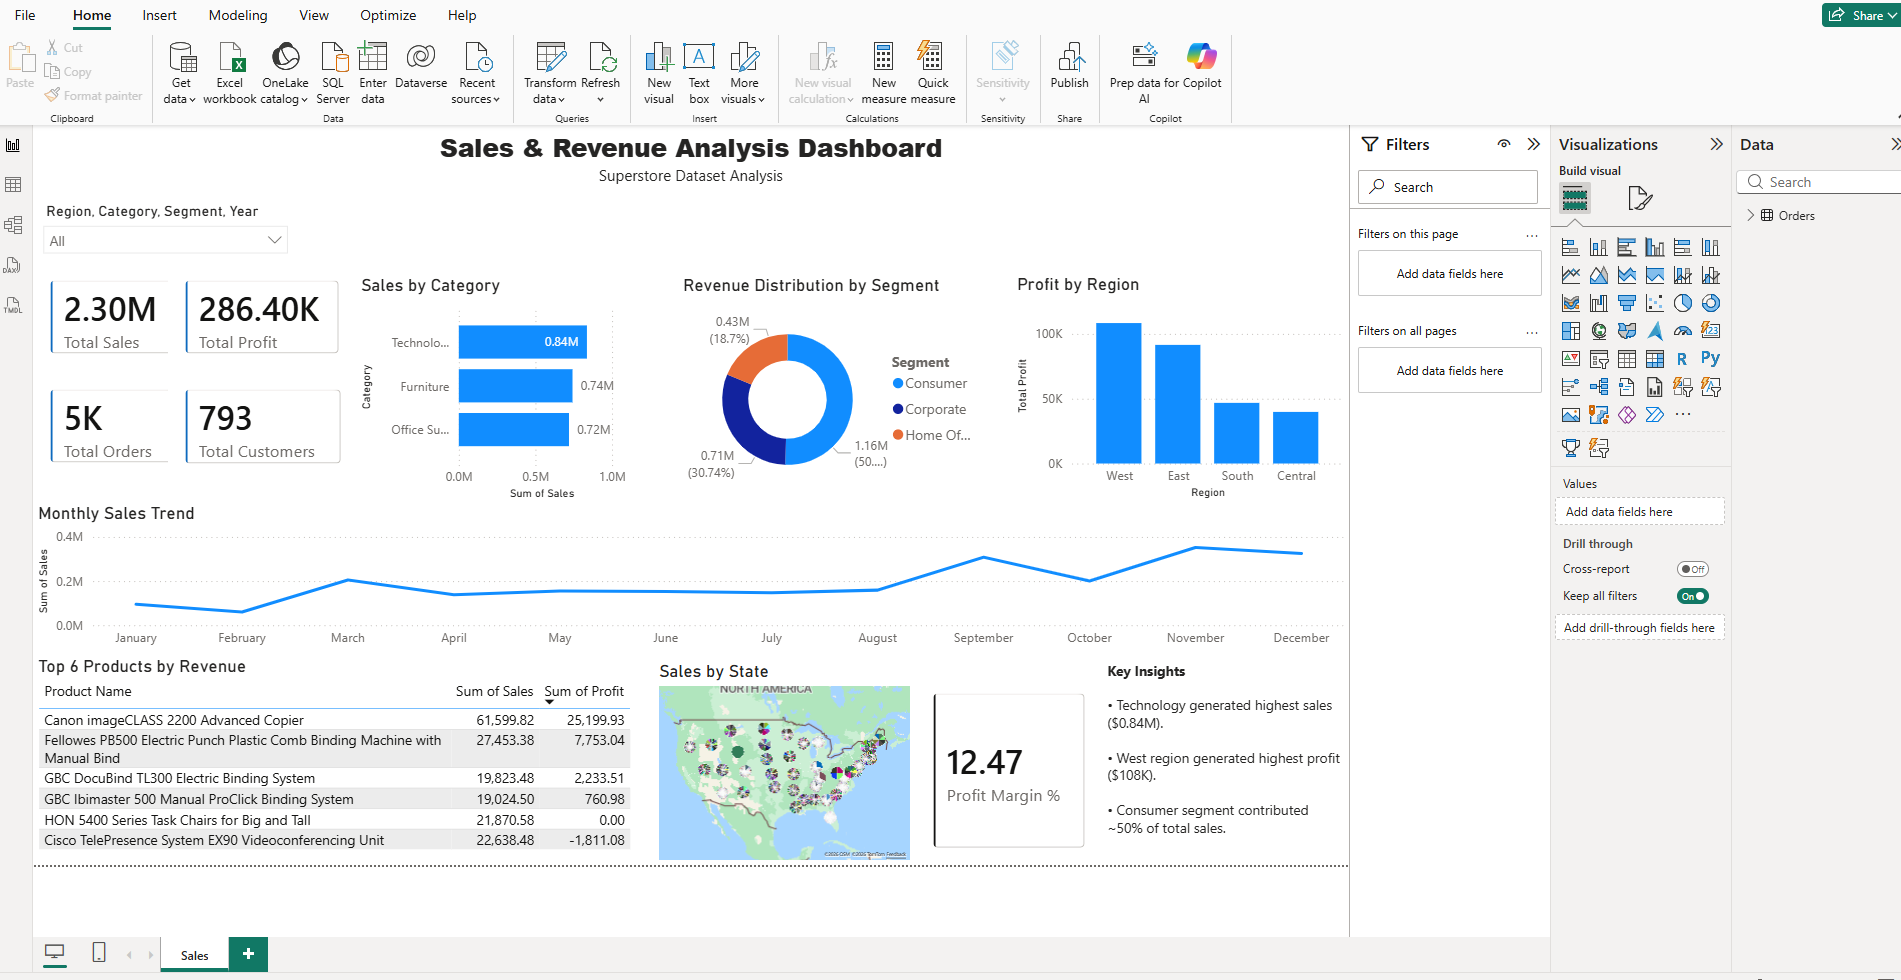

What the dashboard file says about the page in this screenshot:
{"tool":"powerbi","page":{"name":"Sales","canvas":[1280,720],"ordinal":0},"visuals":[{"type":"cardVisual","fields":{"Data":["Orders.Total Sales"]},"box":[0,134.4,163.3,105.6],"z":0},{"type":"cardVisual","fields":{"Data":["Orders.Total Profit"]},"box":[131.1,134.4,183.3,105.6],"z":1000},{"type":"cardVisual","fields":{"Data":["Orders.Total Orders"]},"box":[0,240,154.4,105.6],"z":2000},{"type":"cardVisual","fields":{"Data":["Orders.Total Customers"]},"box":[131.1,240,185.6,106.7],"z":3000},{"type":"barChart","title":"Sales by Category","fields":{"Category":["Orders.Category"],"Y":["Sum(Orders.Sales)"]},"box":[314.4,145.6,281.1,223.3],"z":4000},{"type":"donutChart","title":"Revenue Distribution by Segment","fields":{"Category":["Orders.Segment"],"Y":["Sum(Orders.Sales)"]},"box":[627.8,145.6,300,223.3],"z":5000},{"type":"columnChart","title":"Profit by Region","fields":{"Category":["Orders.Region"],"Y":["Orders.Total Profit"]},"box":[952.2,144.4,327.8,223.3],"z":6000},{"type":"lineChart","title":"Monthly Sales Trend","fields":{"Y":["Sum(Orders.Sales)"],"Category":["Orders.Order Date.Variation.Date Hierarchy.Month"]},"box":[0,367.8,1280,148.9],"z":7000},{"type":"tableEx","title":"Top 6 Products by Revenue","fields":{"Values":["Orders.Product Name","Sum(Orders.Sales)","Sum(Orders.Profit)"]},"box":[0,516.7,604.4,203.3],"z":8000},{"type":"azureMap","title":"Sales by State","fields":{"Category":["Orders.State"],"Series":["Orders.Sales"]},"box":[604.4,521.1,254.4,198.9],"z":9000},{"type":"slicer","fields":{"Values":["Orders.Region","Orders.Category","Orders.Segment","Orders.Order Date.Variation.Date Hierarchy.Year"]},"box":[0,70,277.2,64.2],"z":10000},{"type":"textbox","box":[894,521,386,199],"z":11000},{"type":"textbox","box":[0,0,1280,70],"z":12000},{"type":"textbox","box":[1040,516.7,240,203.3],"z":13000},{"type":"cardVisual","fields":{"Data":["Orders.Profit Margin %"]},"box":[858.9,535.6,181.1,184.4],"z":14000}]}

Visuals, with their boxes on the page's 1280x720 design canvas (x1, y1, x2, y2). These are canvas units, not pixel positions in the 1901x980 screenshot, which may show the page scaled, cropped or inside an application window:
cardVisual - Orders.Total Sales: left=0, top=134, right=163, bottom=240
cardVisual - Orders.Total Profit: left=131, top=134, right=314, bottom=240
cardVisual - Orders.Total Orders: left=0, top=240, right=154, bottom=346
cardVisual - Orders.Total Customers: left=131, top=240, right=317, bottom=347
"Sales by Category" barChart: left=314, top=146, right=596, bottom=369
"Revenue Distribution by Segment" donutChart: left=628, top=146, right=928, bottom=369
"Profit by Region" columnChart: left=952, top=144, right=1280, bottom=368
"Monthly Sales Trend" lineChart: left=0, top=368, right=1280, bottom=517
"Top 6 Products by Revenue" tableEx: left=0, top=517, right=604, bottom=720
"Sales by State" azureMap: left=604, top=521, right=859, bottom=720
slicer - Orders.Region x Orders.Category: left=0, top=70, right=277, bottom=134
textbox: left=894, top=521, right=1280, bottom=720
textbox: left=0, top=0, right=1280, bottom=70
textbox: left=1040, top=517, right=1280, bottom=720
cardVisual - Orders.Profit Margin %: left=859, top=536, right=1040, bottom=720
